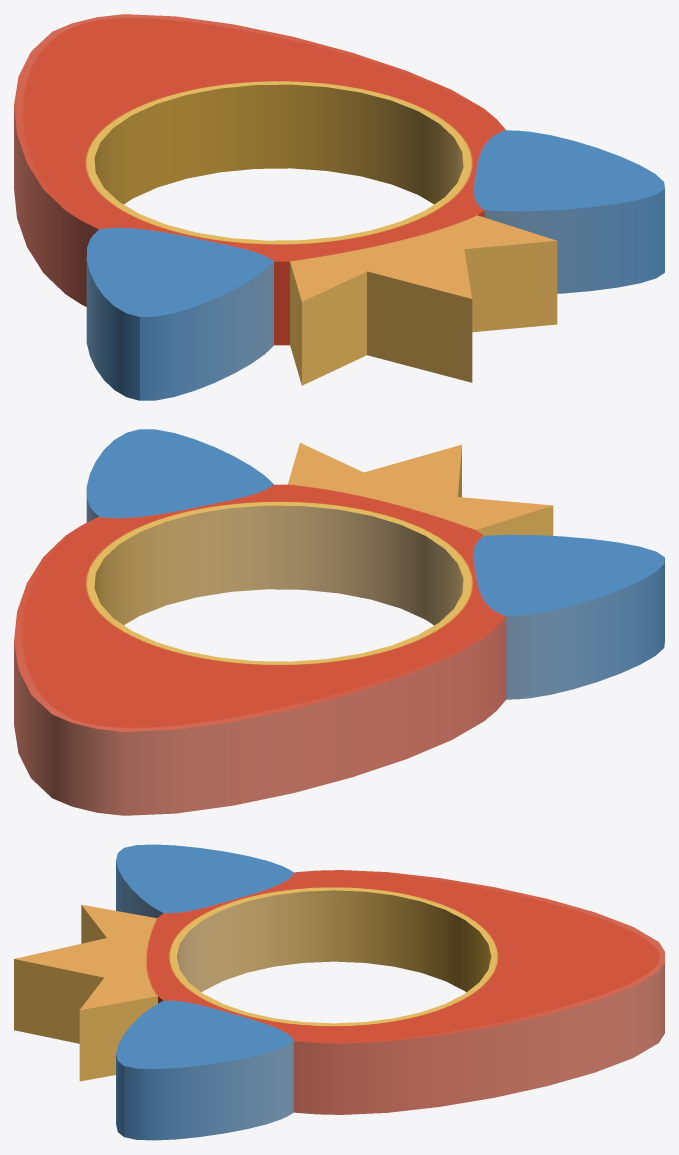
File: Rocket.FBX
3 views of the same model, one above another, from view 1: azimuth 30°, elevation 25°; view 2: azimuth 150°, elevation 25°; view 3: azimuth 270°, elevation 25° (orthographic). The views are drawn at different scales.
Parts seen in each view (by area): view 1: Rocket; view 2: Rocket; view 3: Rocket.
Boxes of the visible parts, box(x1,y1,x2,y2) form: Rocket: box(14, 14, 664, 400); Rocket: box(14, 429, 664, 815); Rocket: box(14, 844, 664, 1140).
Size of the model in its own units: 47.32 by 7 by 57.93.
Materials: 1 (1 with a texture image).
